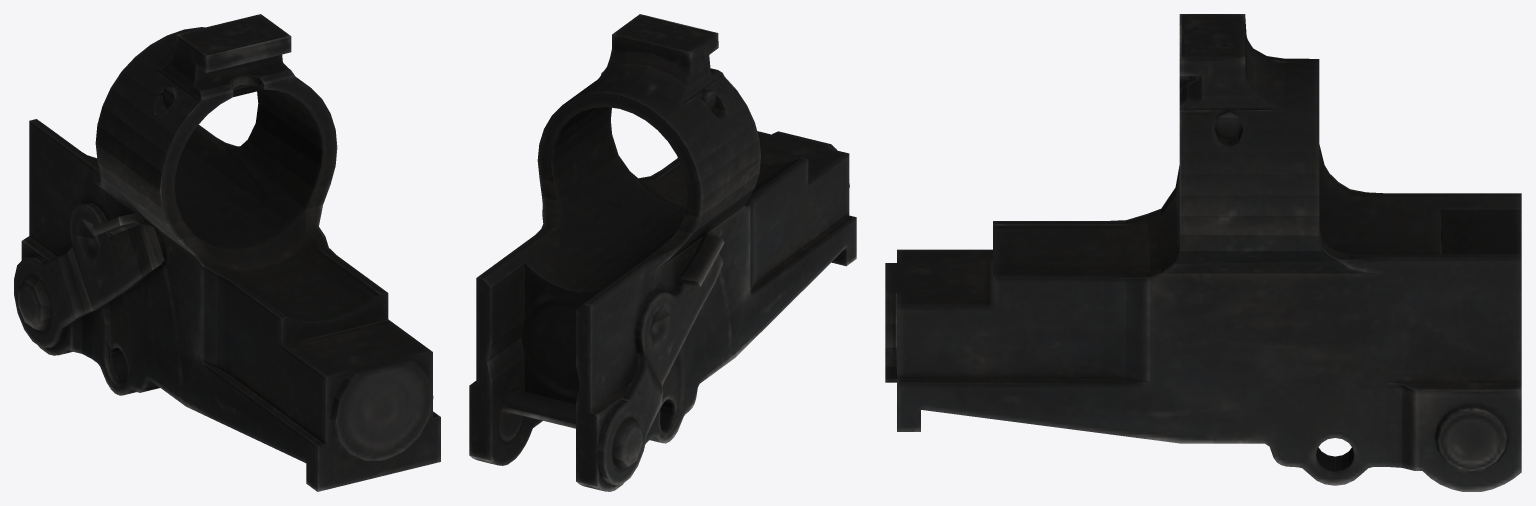
3 renders of one model, left to right at view 1: azimuth 30°, elevation 25°; view 2: azimuth 150°, elevation 25°; view 3: azimuth 270°, elevation 25°, orthographic. The views are drawn at different scales.
Visible parts, largest first — view 1: TW_634f04d82e5def262d0b30c6_PZ_Import; view 2: TW_634f04d82e5def262d0b30c6_PZ_Import; view 3: TW_634f04d82e5def262d0b30c6_PZ_Import.
Part boxes in pixels (x1,y1,x2,y2): TW_634f04d82e5def262d0b30c6_PZ_Import: (14,14,440,491); TW_634f04d82e5def262d0b30c6_PZ_Import: (469,14,856,491); TW_634f04d82e5def262d0b30c6_PZ_Import: (885,14,1521,491).
Bounding box in the file's own units: 0.0133 × 0.0382 × 0.0277.
Materials: 1 (1 with a texture image).
